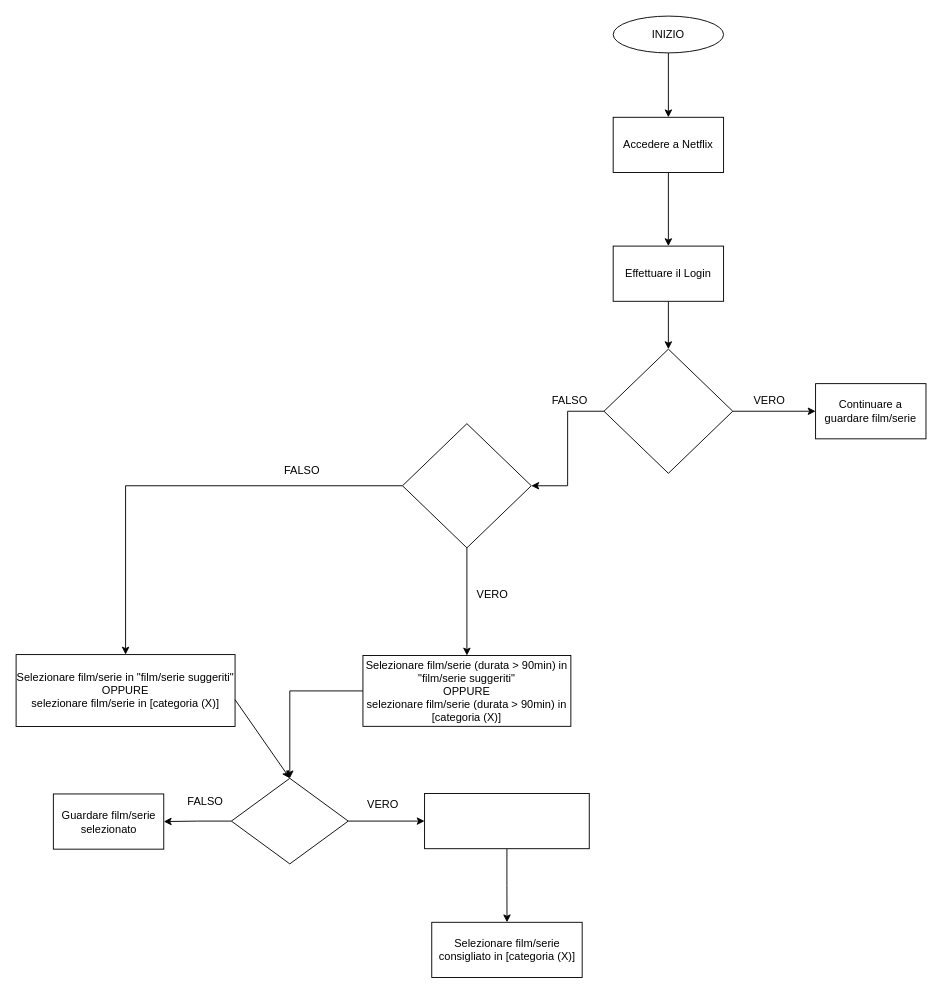
This 942x994 diagram has some shape labels left out. Here are the shapes that lost their labels. From the top down, the centre of each, then its label:
point (668, 410): Stavo guardando un film/serie?
point (466, 485): Ho sonno/poco tempo?
point (289, 820): Ho un consiglio esterno?
point (506, 821): Spostare film/serie selezionato in [categoria (X)]in "film/serie suggerite"
